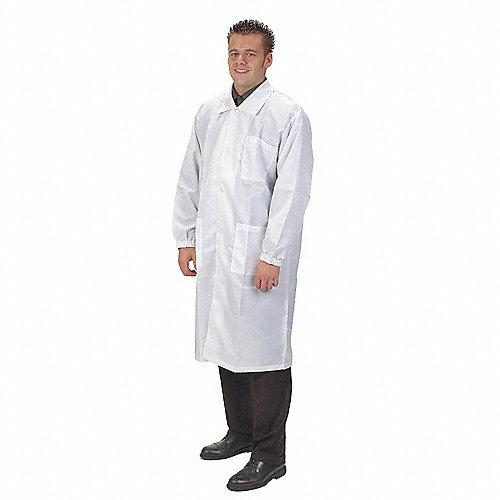Bata-Correcta: (173, 20, 312, 490)
